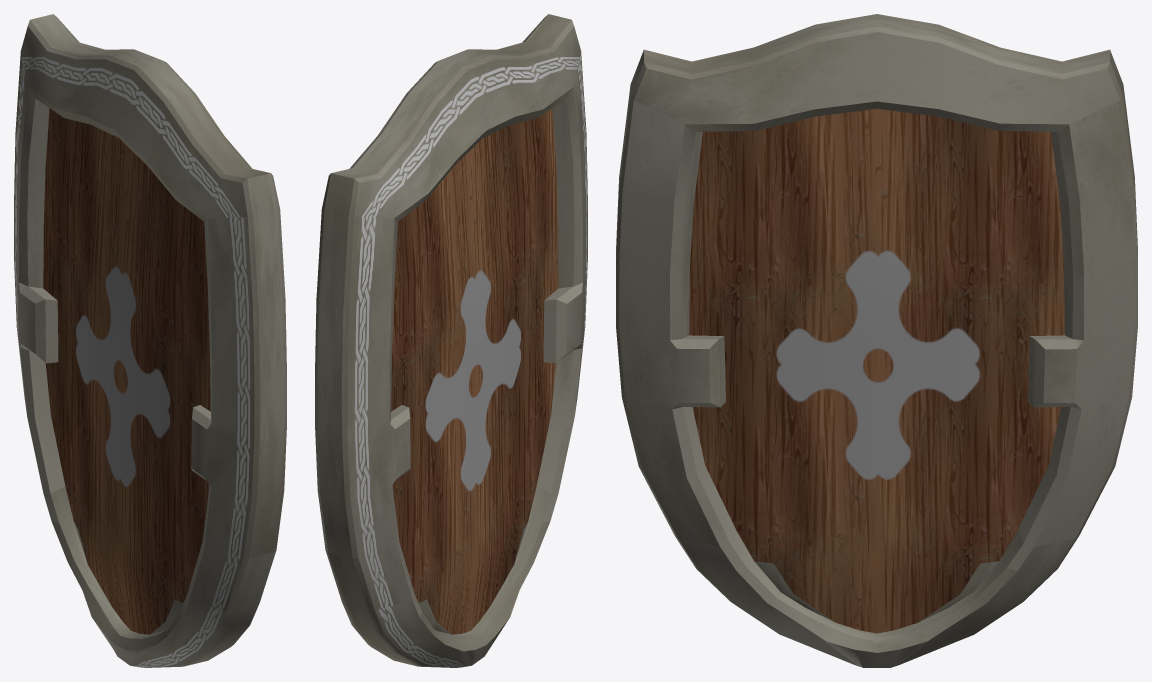
Rendered from shield.fbx.
3 views of the same model, side by side, from view 1: azimuth 30°, elevation 25°; view 2: azimuth 150°, elevation 25°; view 3: azimuth 270°, elevation 25° (orthographic). The views are drawn at different scales.
Visible parts, largest first — view 1: shield; view 2: shield; view 3: shield.
Boxes of the visible parts, bbox=[...] form: shield: bbox=[14, 14, 286, 667]; shield: bbox=[315, 14, 587, 667]; shield: bbox=[616, 14, 1137, 667].
Size of the model in its own units: 0.5551 by 4.23 by 3.16.
